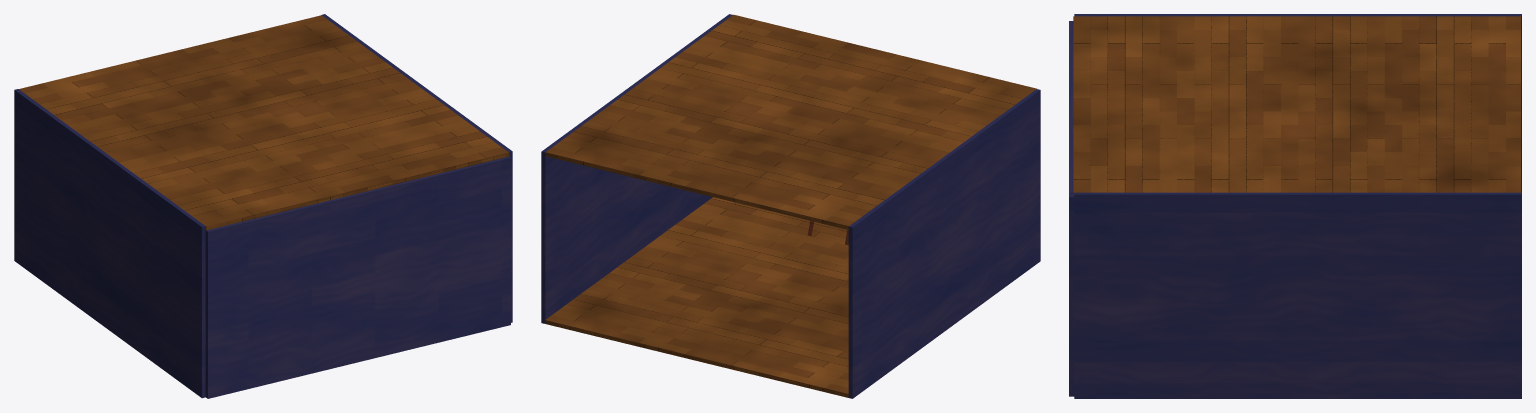
File: SecurityRoom1_3 2.fbx
The picture shows the model from 3 angles, left to right: view 1: azimuth 30°, elevation 25°; view 2: azimuth 150°, elevation 25°; view 3: azimuth 270°, elevation 25°; orthographic projection. The views are drawn at different scales.
Visible parts, largest first — view 1: Ceiling.002, SecurityBackWall, SideWall1.019, SecuritySideWall; view 2: Ceiling.002, Ground.003, SideWall1.019, SecuritySideWall; view 3: SecuritySideWall, Ceiling.002, SecurityBackWall, SideWall1.019.
Boxes of the visible parts, x1,y1,x2,y2 form: Ceiling.002: (19, 15, 509, 230); SecurityBackWall: (205, 156, 510, 398); SideWall1.019: (14, 89, 205, 398); SecuritySideWall: (321, 14, 512, 322); Ceiling.002: (545, 14, 1036, 229); Ground.003: (545, 197, 848, 397); SideWall1.019: (848, 89, 1040, 398); SecuritySideWall: (541, 14, 732, 323); SecuritySideWall: (1074, 192, 1521, 398); Ceiling.002: (1073, 16, 1520, 197); SecurityBackWall: (1069, 21, 1074, 396); SideWall1.019: (1074, 14, 1521, 192).
Size of the model in its own units: 517 by 272 by 547.
